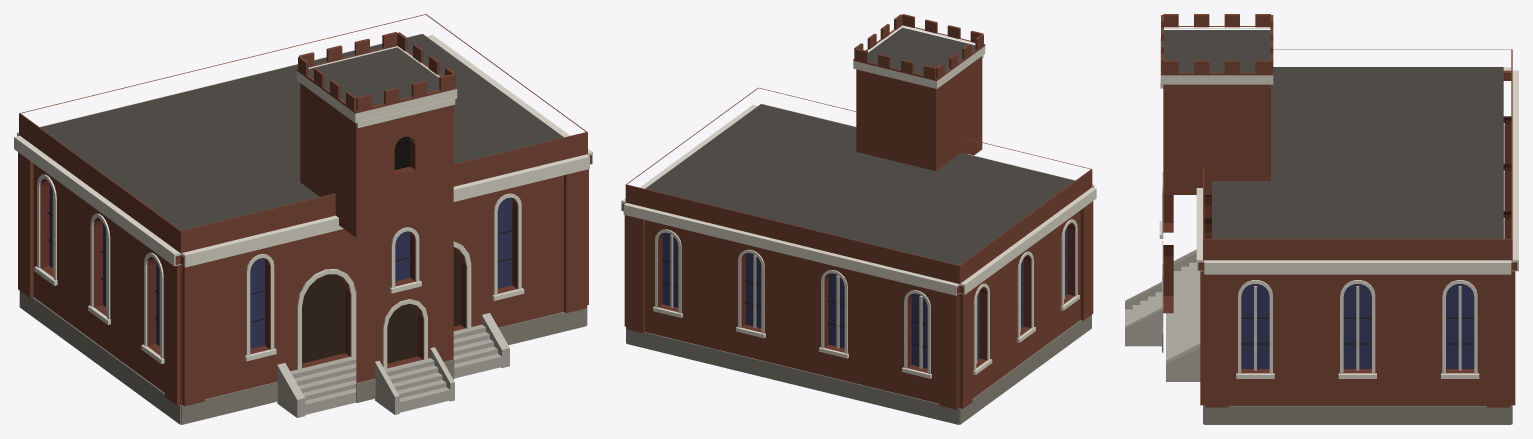
Rendered from ch-metropolitan-baptist-1961.glb.
3 views of the same model, side by side, from view 1: azimuth 30°, elevation 25°; view 2: azimuth 150°, elevation 25°; view 3: azimuth 270°, elevation 25° (orthographic). The views are drawn at different scales.
Visible parts, largest first — view 1: kit-ch-metropolitan-baptist-1961; view 2: kit-ch-metropolitan-baptist-1961; view 3: kit-ch-metropolitan-baptist-1961.
Part boxes in pixels (<box>): kit-ch-metropolitan-baptist-1961: <box>14,14,592,424</box>; kit-ch-metropolitan-baptist-1961: <box>621,14,1096,424</box>; kit-ch-metropolitan-baptist-1961: <box>1125,14,1518,424</box>.
Bounding box in the file's own units: 18.1 × 12.7 × 15.4.
